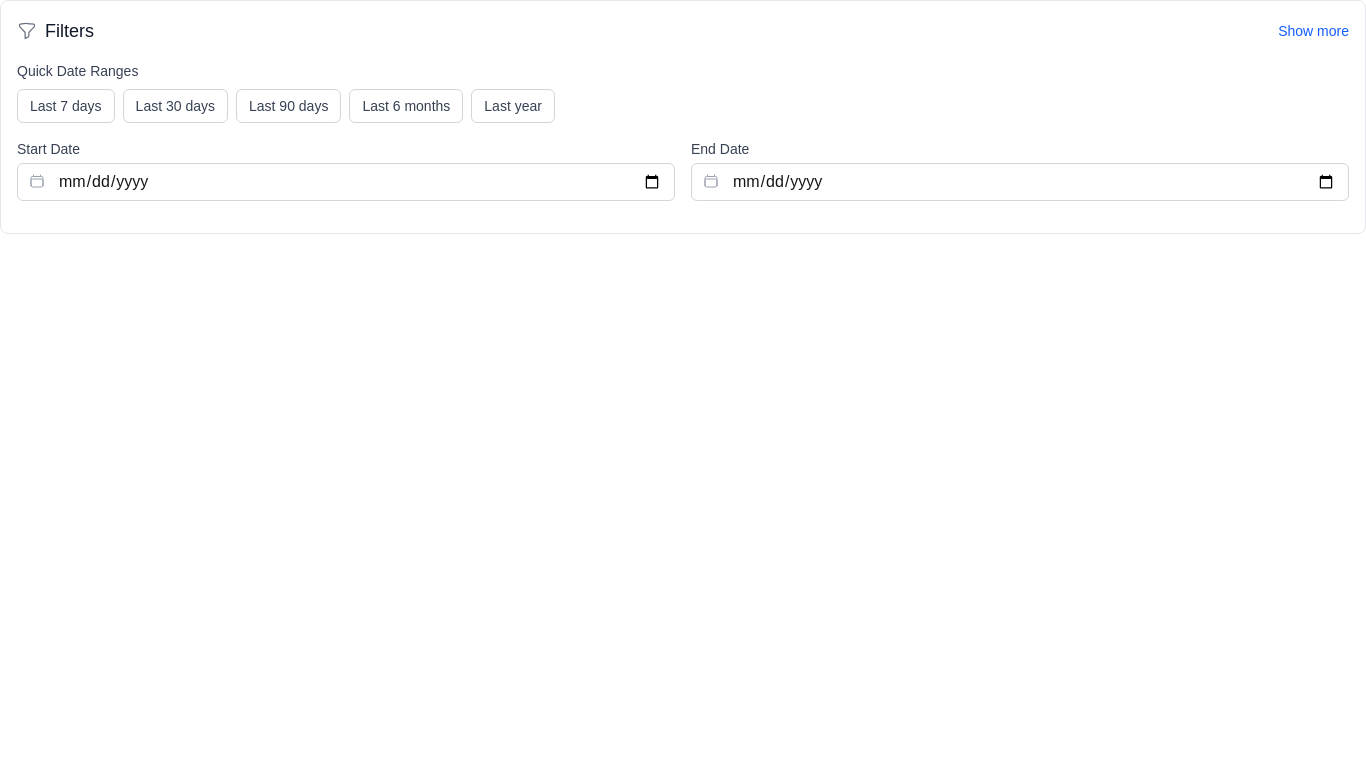
Test: AnalyticsFilters › expands to show additional filters
Click the button "Show more" at {"x": 1314, "y": 31}, box x1=1278 y1=21 x2=1349 y2=41
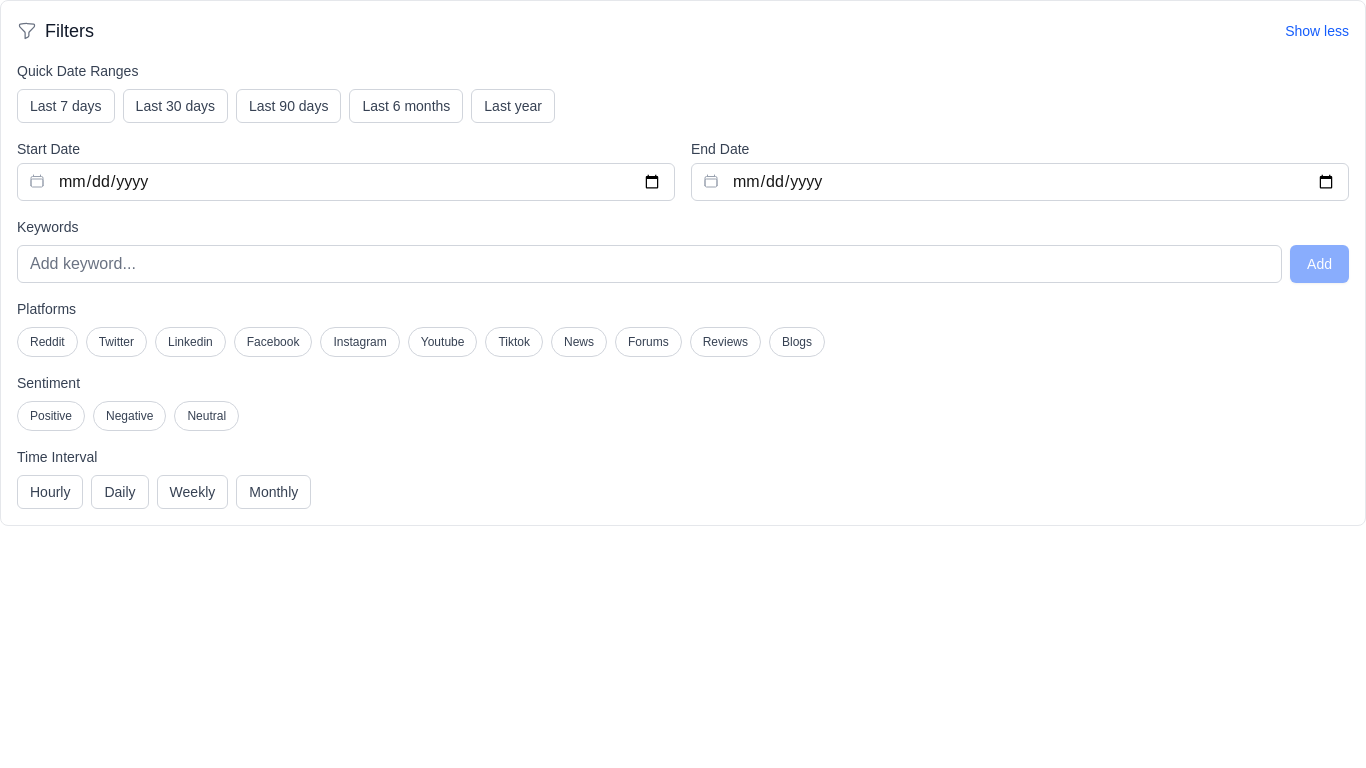
Check: the text "Keywords" is shown, box x1=17 y1=219 x2=78 y2=235
Check: the text "Platforms" is shown, box x1=17 y1=301 x2=76 y2=317
Check: the text "Sentiment" is shown, box x1=17 y1=375 x2=80 y2=391
